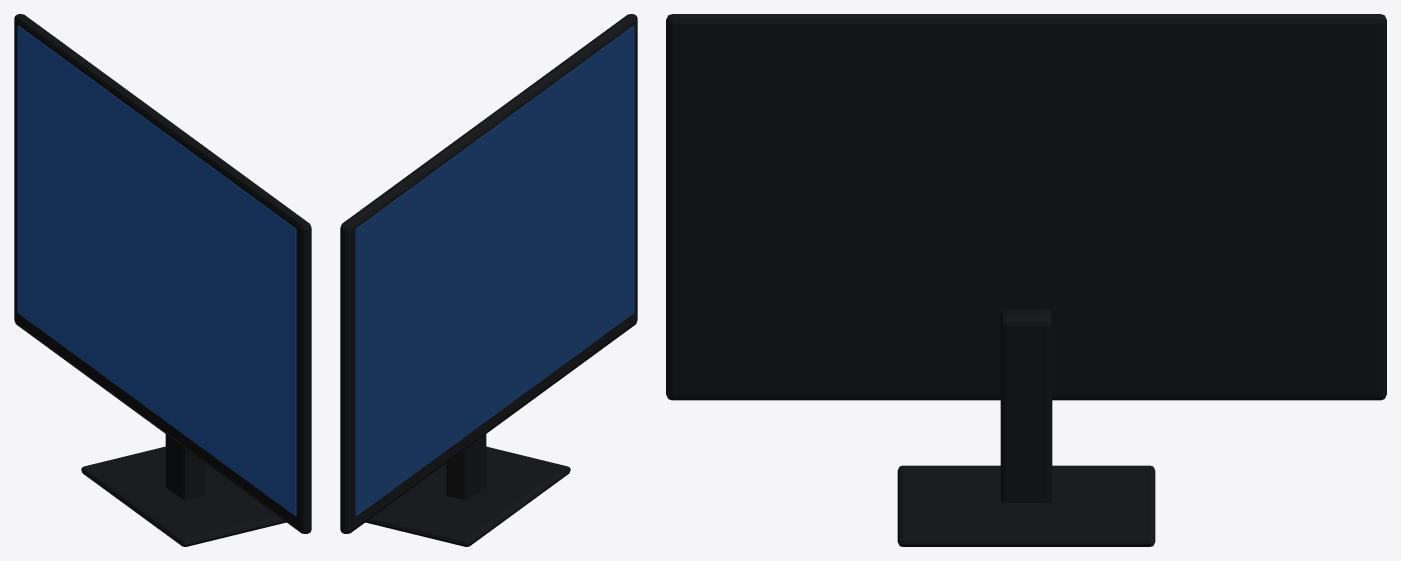
Rendered from monitor.glb.
3 views of the same model, side by side, from view 1: azimuth 30°, elevation 25°; view 2: azimuth 150°, elevation 25°; view 3: azimuth 270°, elevation 25° (orthographic). The views are drawn at different scales.
Visible parts, largest first — view 1: monitor; view 2: monitor; view 3: monitor.
Boxes of the visible parts, left/top/right/bottom form: monitor: left=14, top=14, right=311, bottom=546; monitor: left=340, top=14, right=637, bottom=546; monitor: left=666, top=14, right=1386, bottom=546.
Bounding box in the file's own units: 1.4 × 4.09 × 5.6.
